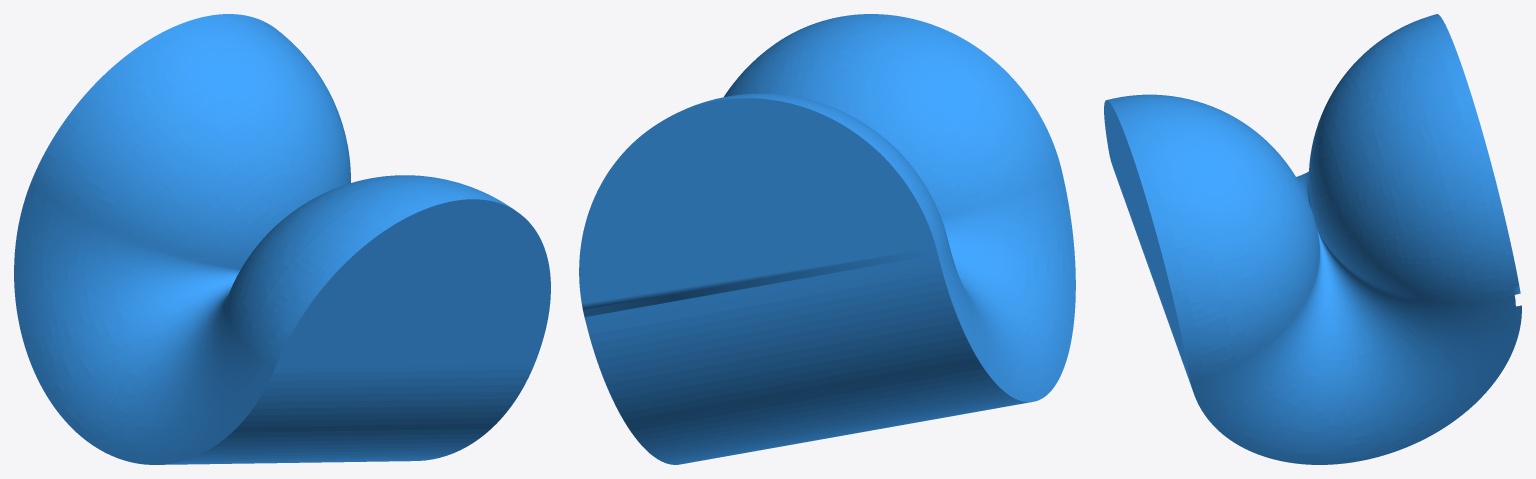
File: 이종원.gltf
The picture shows the model from 3 angles, left to right: view 1: azimuth 30°, elevation 25°; view 2: azimuth 150°, elevation 25°; view 3: azimuth 270°, elevation 25°; orthographic projection. The views are drawn at different scales.
Parts seen in each view (by area): view 1: 이종원obj; view 2: 이종원obj; view 3: 이종원obj.
Part boxes in pixels (x1,y1,x2,y2): 이종원obj: [14, 14, 550, 464]; 이종원obj: [579, 14, 1075, 464]; 이종원obj: [1104, 14, 1521, 464].
Size of the model in its own units: 1.47 by 1.44 by 1.45.
